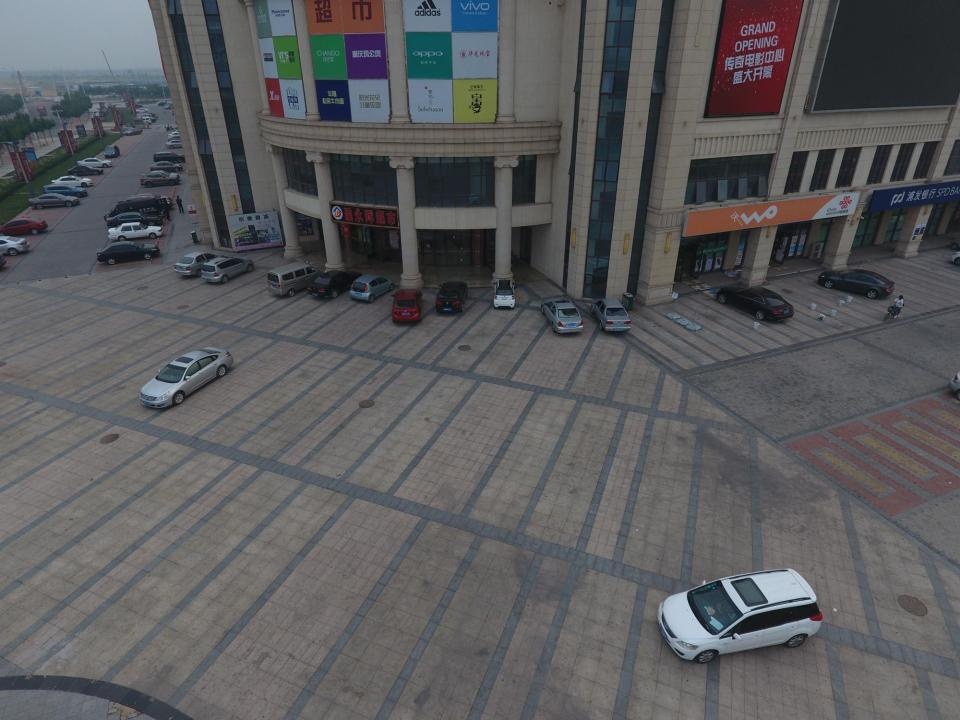car: (658, 570, 822, 662), (140, 346, 232, 409), (717, 286, 794, 322), (818, 268, 895, 299), (540, 297, 584, 335), (592, 299, 634, 336), (96, 241, 160, 265), (307, 270, 361, 298), (201, 256, 255, 284), (173, 252, 226, 277), (349, 274, 394, 302), (434, 281, 468, 316), (390, 289, 423, 324), (0, 216, 48, 235), (108, 222, 163, 238), (28, 193, 80, 209), (106, 212, 162, 226), (492, 280, 516, 310), (128, 194, 172, 209), (139, 172, 180, 188), (0, 236, 30, 256), (42, 185, 88, 197), (51, 176, 93, 187), (67, 164, 103, 176), (77, 158, 113, 168), (150, 162, 182, 172), (153, 152, 185, 161), (148, 170, 178, 178), (104, 145, 120, 158)
van: (267, 262, 321, 296), (104, 196, 168, 221)
